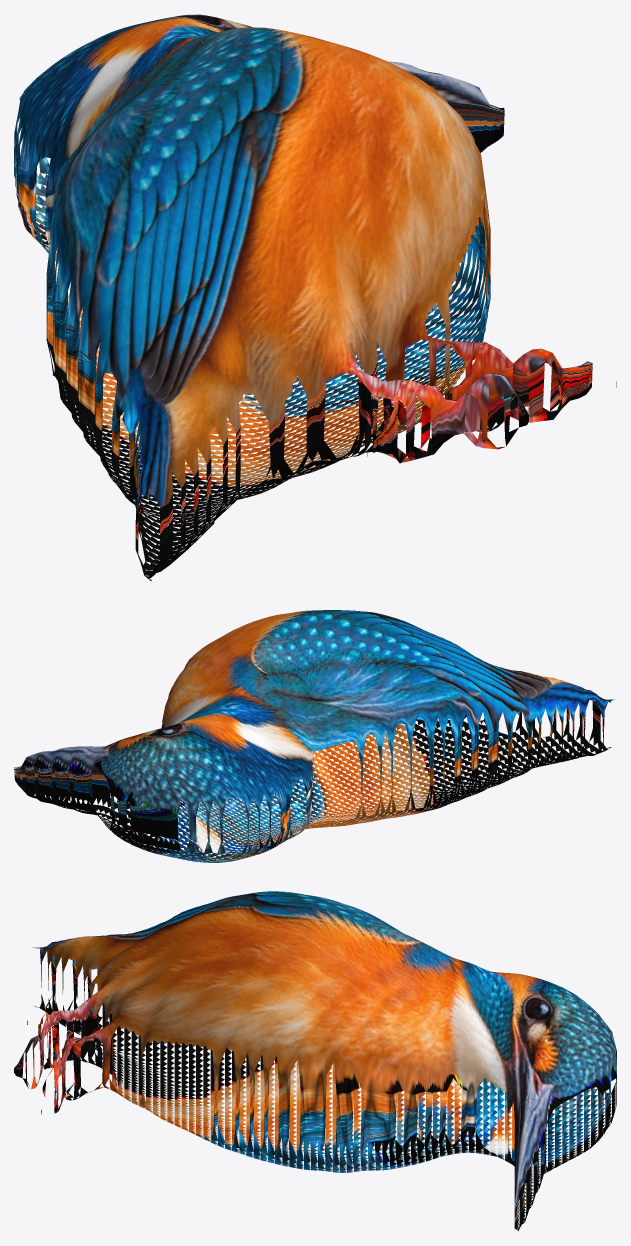
The model's file is kingfisher.glb.
3 renders of one model, top to bottom at view 1: azimuth 30°, elevation 25°; view 2: azimuth 150°, elevation 25°; view 3: azimuth 270°, elevation 25°, orthographic. The views are drawn at different scales.
Visible parts, largest first — view 1: kingfisher_obj; view 2: kingfisher_obj; view 3: kingfisher_obj.
Boxes of the visible parts, left/top/right/bottom form: kingfisher_obj: left=14, top=14, right=616, bottom=580; kingfisher_obj: left=14, top=610, right=614, bottom=862; kingfisher_obj: left=14, top=891, right=616, bottom=1231.
Bounding box in the file's own units: 1.64 × 0.7907 × 1.75.
Materials: 1 (1 with a texture image).
